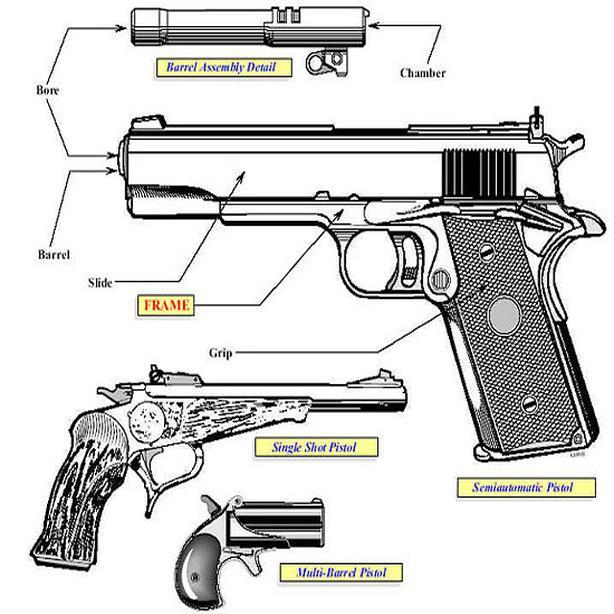Firearm: (114, 102, 613, 472), (13, 365, 427, 578)
